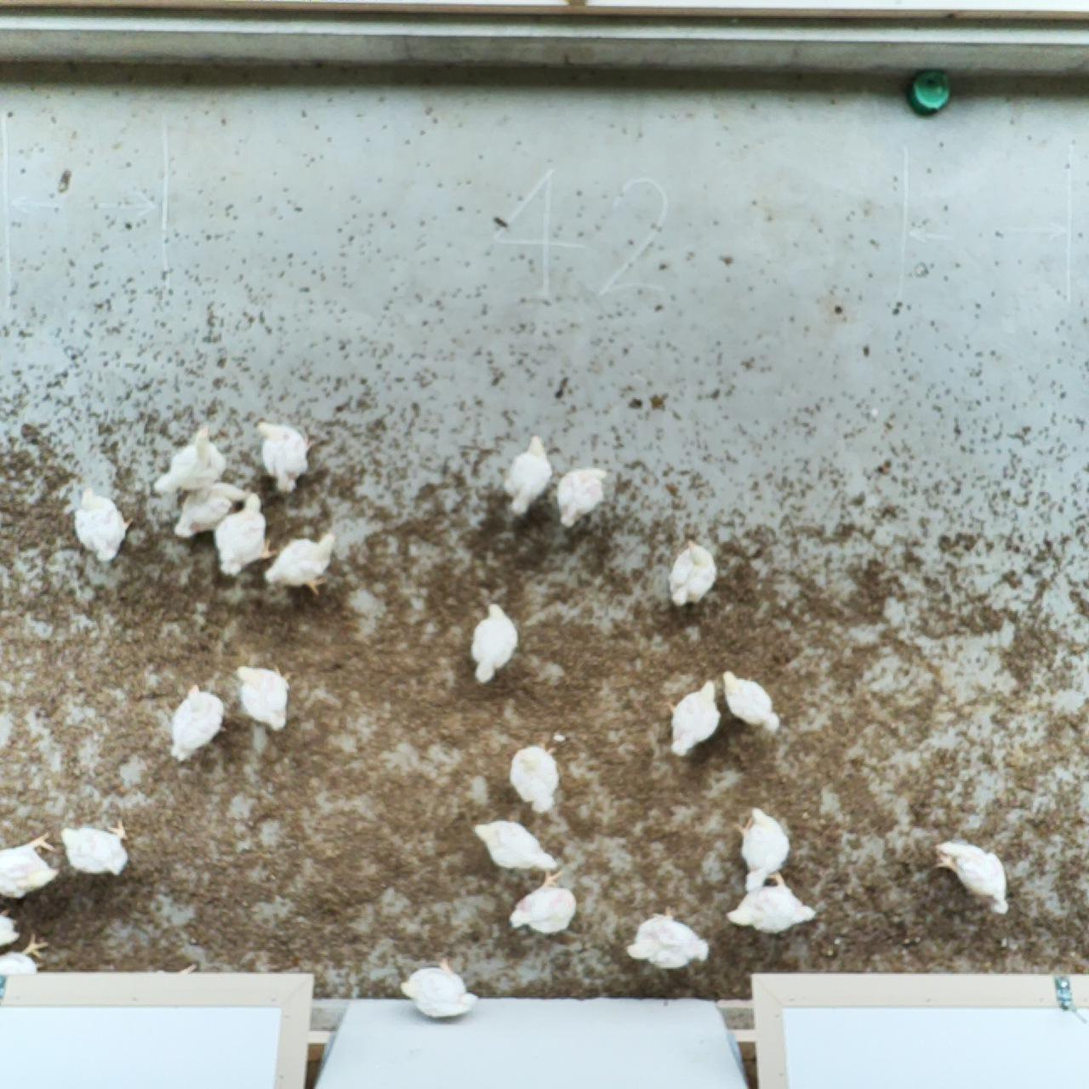chicken: (931, 832, 1011, 919), (723, 873, 819, 936), (210, 490, 275, 578), (149, 423, 228, 495), (398, 956, 481, 1022), (623, 906, 707, 970), (733, 807, 794, 894), (252, 415, 318, 495), (70, 482, 135, 563), (164, 682, 228, 764), (469, 817, 560, 873), (57, 813, 129, 882), (715, 666, 784, 738), (262, 529, 335, 596), (505, 871, 579, 936), (664, 675, 722, 757), (173, 482, 253, 541), (0, 830, 58, 908), (470, 600, 522, 682), (232, 664, 293, 732), (504, 433, 553, 516), (664, 537, 721, 608), (509, 742, 563, 814), (551, 463, 608, 527), (0, 929, 51, 990), (0, 903, 21, 951)
